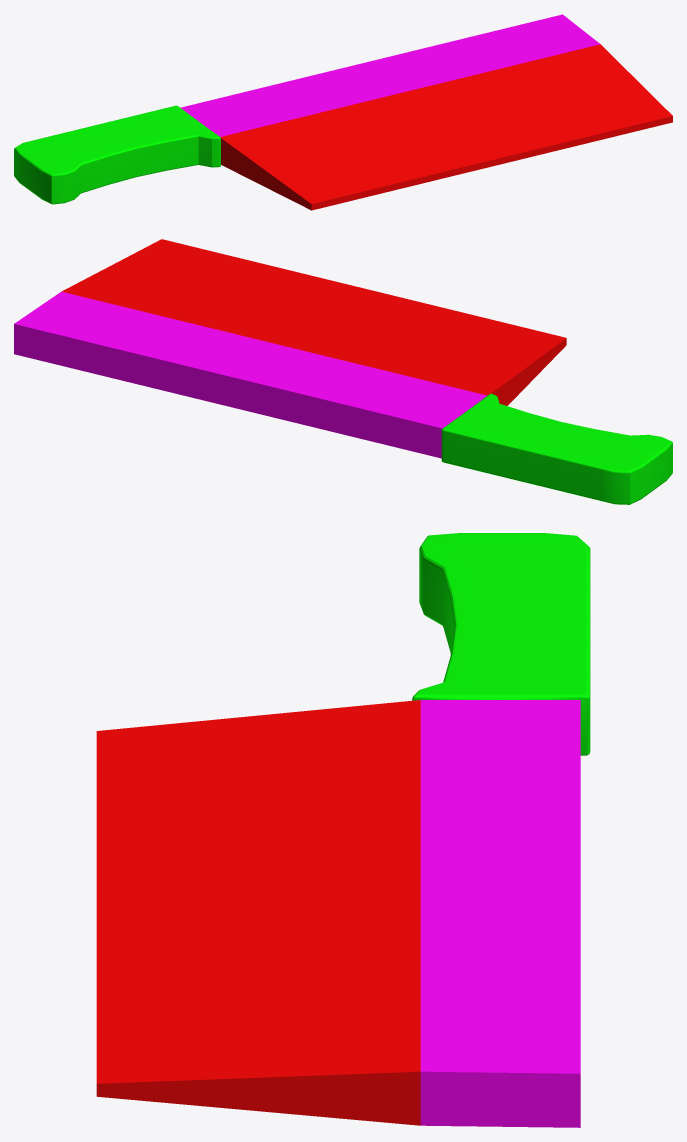
File: SM_Knife.fbx
3 renders of one model, top to bottom at view 1: azimuth 30°, elevation 25°; view 2: azimuth 150°, elevation 25°; view 3: azimuth 270°, elevation 25°, orthographic. The views are drawn at different scales.
Parts seen in each view (by area): view 1: pCube1; view 2: pCube1; view 3: pCube1.
Part boxes in pixels (<box>): pCube1: <box>14,14,672,210</box>; pCube1: <box>14,239,672,504</box>; pCube1: <box>96,533,590,1127</box>.
Size of the model in its own units: 70.88 by 3.72 by 27.46.
